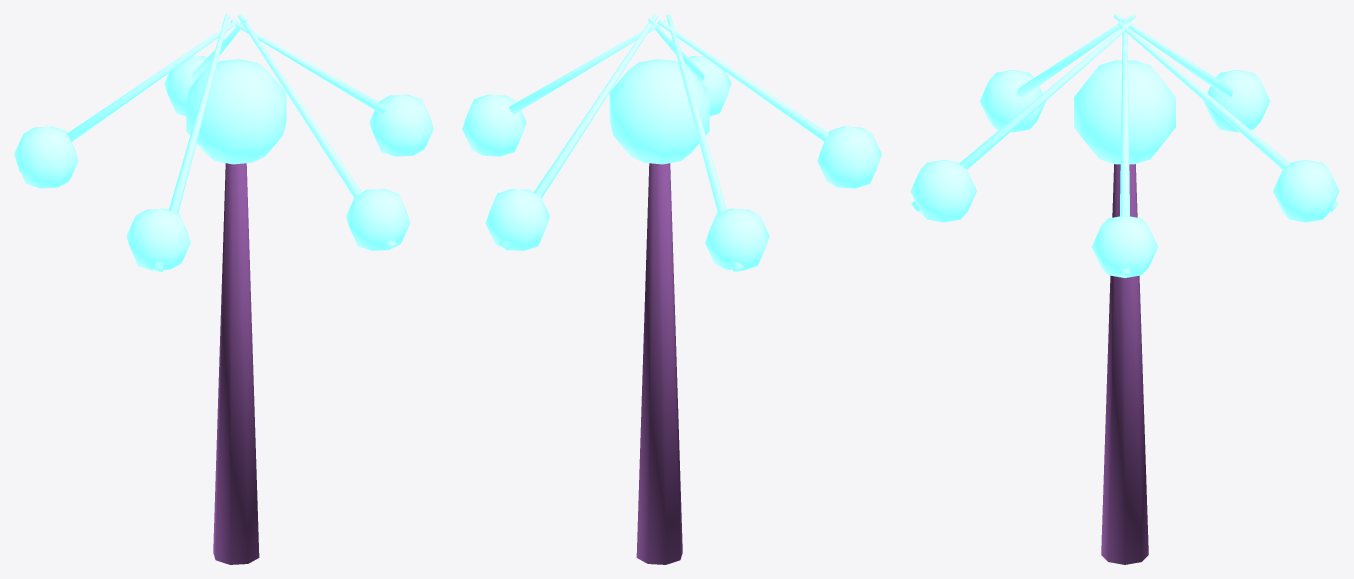
The model's file is tree_alien.glb.
The picture shows the model from 3 angles, left to right: view 1: azimuth 30°, elevation 25°; view 2: azimuth 150°, elevation 25°; view 3: azimuth 270°, elevation 25°; orthographic projection.
Parts seen in each view (by area): view 1: TreeAlien; view 2: TreeAlien; view 3: TreeAlien.
Boxes of the visible parts, x1,y1,x2,y2 form: TreeAlien: [14, 14, 433, 564]; TreeAlien: [462, 14, 881, 564]; TreeAlien: [910, 14, 1339, 564].
Bounding box in the file's own units: 3.45 × 4.99 × 3.6.
